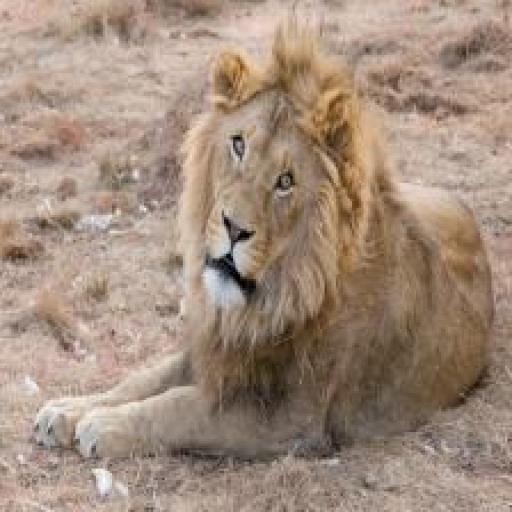lion: (34, 7, 497, 465)
